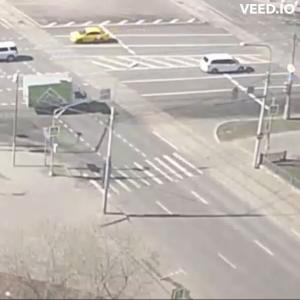car: (22, 70, 94, 111), (202, 55, 254, 75), (71, 26, 115, 46), (1, 37, 23, 63)
